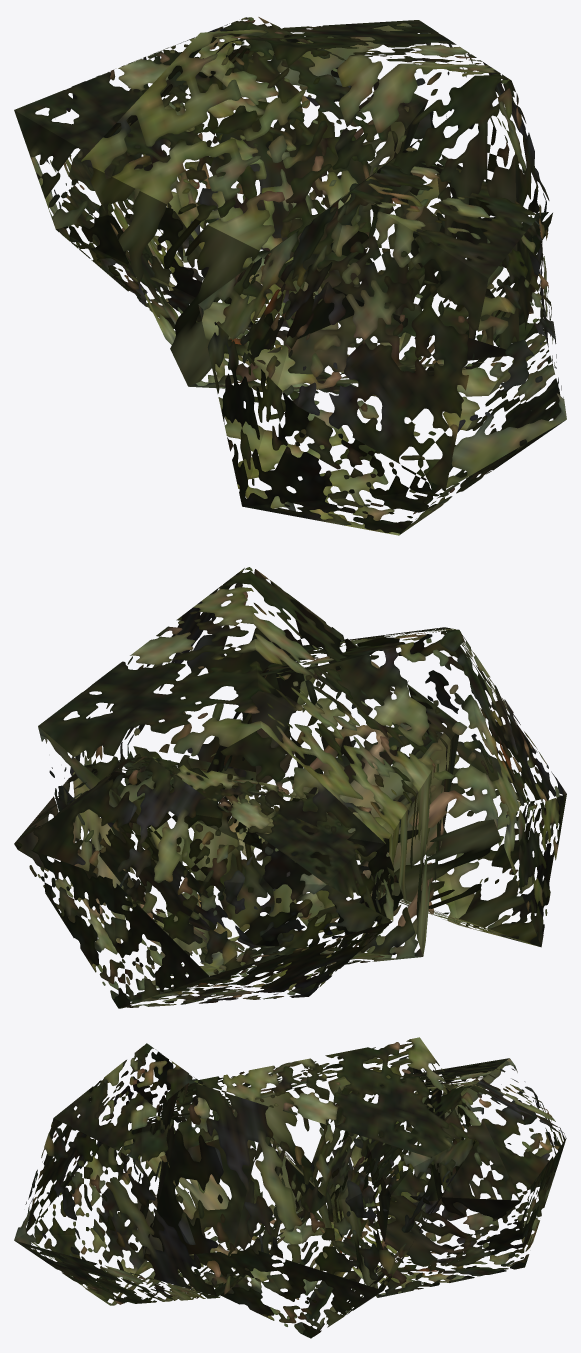
Rendered from sdwsk-leaves.fbx.
3 views of the same model, one above another, from view 1: azimuth 30°, elevation 25°; view 2: azimuth 150°, elevation 25°; view 3: azimuth 270°, elevation 25° (orthographic). The views are drawn at different scales.
Visible parts, largest first — view 1: sdwsk-leaves; view 2: sdwsk-leaves; view 3: sdwsk-leaves.
Part boxes in pixels (x1,y1,x2,y2): sdwsk-leaves: [14, 17, 566, 535]; sdwsk-leaves: [14, 567, 566, 1008]; sdwsk-leaves: [14, 1037, 566, 1338].
Bounding box in the file's own units: 145 × 135 × 237.
1 material, 1 textured.
